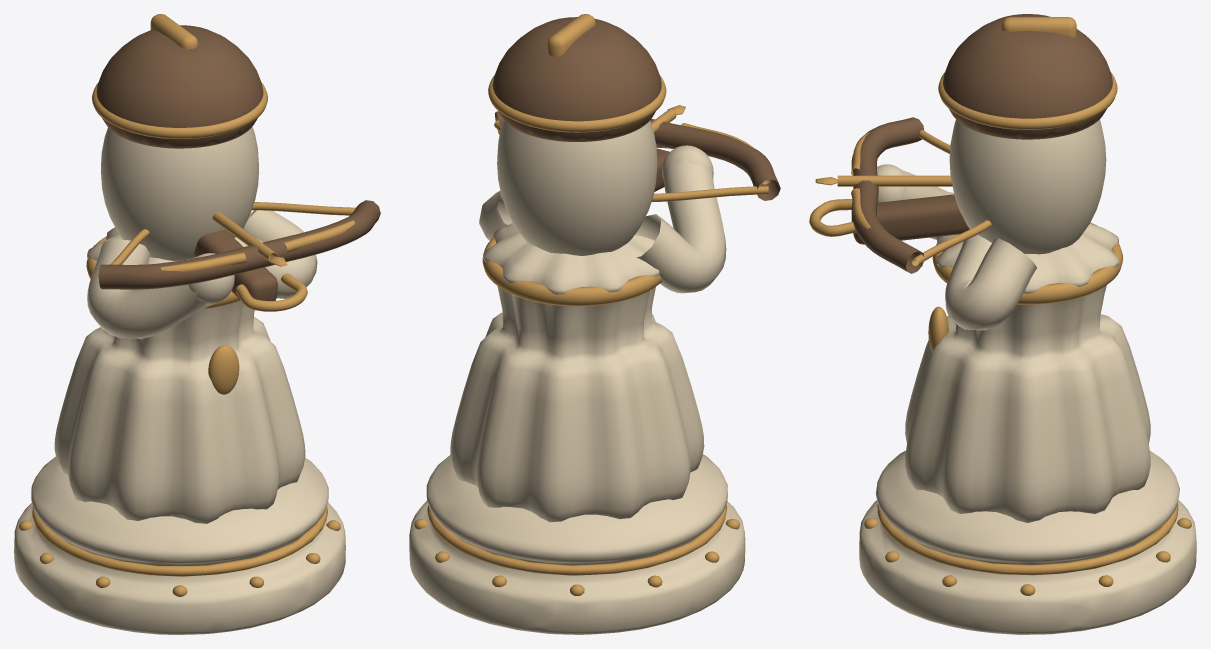
The model's file is crossbowman.glb.
The picture shows the model from 3 angles, left to right: view 1: azimuth 30°, elevation 25°; view 2: azimuth 150°, elevation 25°; view 3: azimuth 270°, elevation 25°; orthographic projection.
Visible parts, largest first — view 1: PIECE_Crossbowman_Sculpture, PIECE_Crossbowman_Base; view 2: PIECE_Crossbowman_Sculpture, PIECE_Crossbowman_Base; view 3: PIECE_Crossbowman_Sculpture, PIECE_Crossbowman_Base.
Boxes of the visible parts, x1,y1,x2,y2 form: PIECE_Crossbowman_Sculpture: (54,14,380,523); PIECE_Crossbowman_Base: (14,456,345,634); PIECE_Crossbowman_Sculpture: (450,14,780,522); PIECE_Crossbowman_Base: (409,454,745,634); PIECE_Crossbowman_Sculpture: (809,14,1150,522); PIECE_Crossbowman_Base: (859,450,1196,634).
Size of the model in its own units: 0.719 by 1.29 by 0.8252.
